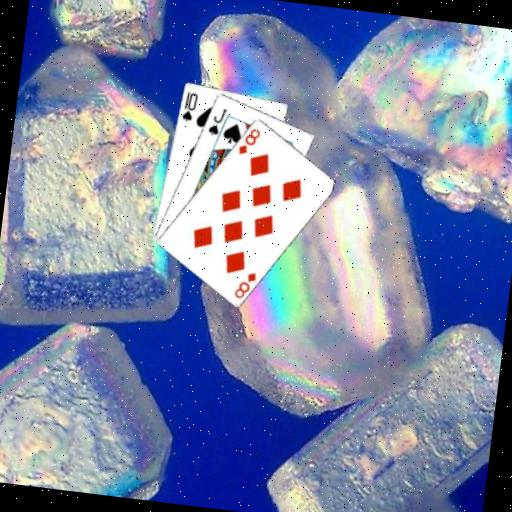10S: (178, 88, 200, 124)
8D: (235, 123, 263, 158), (231, 267, 259, 302)
JS: (204, 103, 228, 138)
